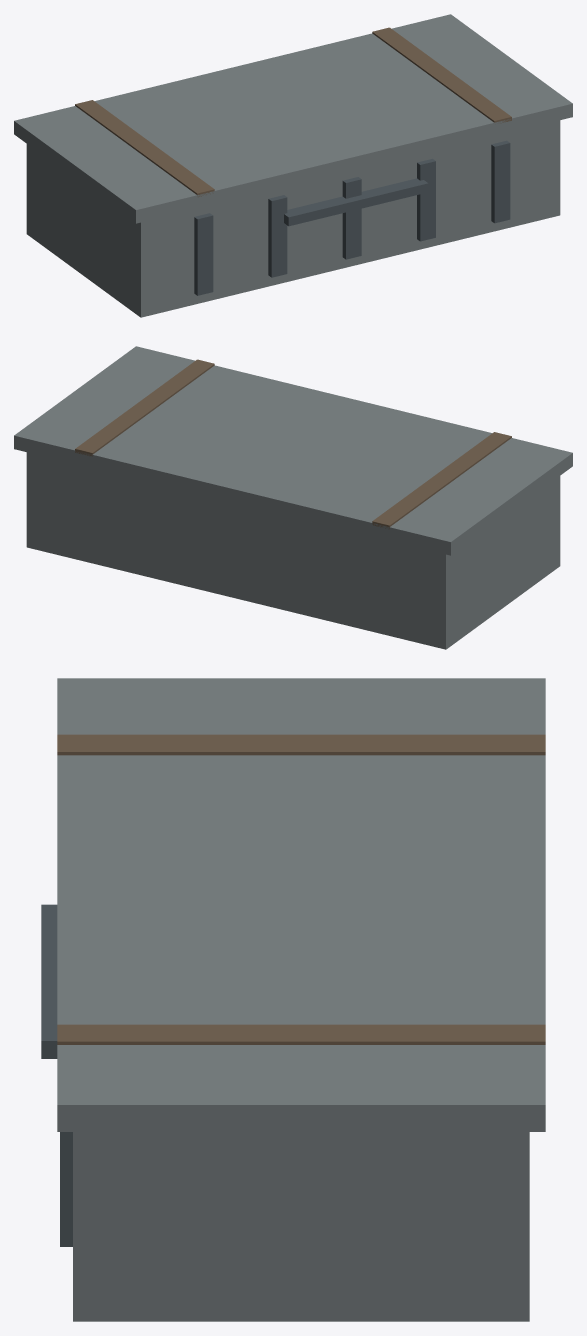
The model's file is tin_crate.glb.
3 renders of one model, top to bottom at view 1: azimuth 30°, elevation 25°; view 2: azimuth 150°, elevation 25°; view 3: azimuth 270°, elevation 25°, orthographic. The views are drawn at different scales.
Visible parts, largest first — view 1: tin_crate; view 2: tin_crate; view 3: tin_crate.
Part boxes in pixels (x1,y1,x2,y2): tin_crate: (14, 14, 572, 317); tin_crate: (14, 346, 572, 649); tin_crate: (41, 678, 545, 1321).
Size of the model in its own units: 1.92 by 0.48 by 0.96.
